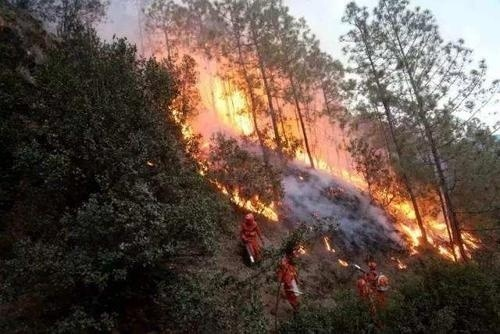fire: (183, 44, 475, 263)
